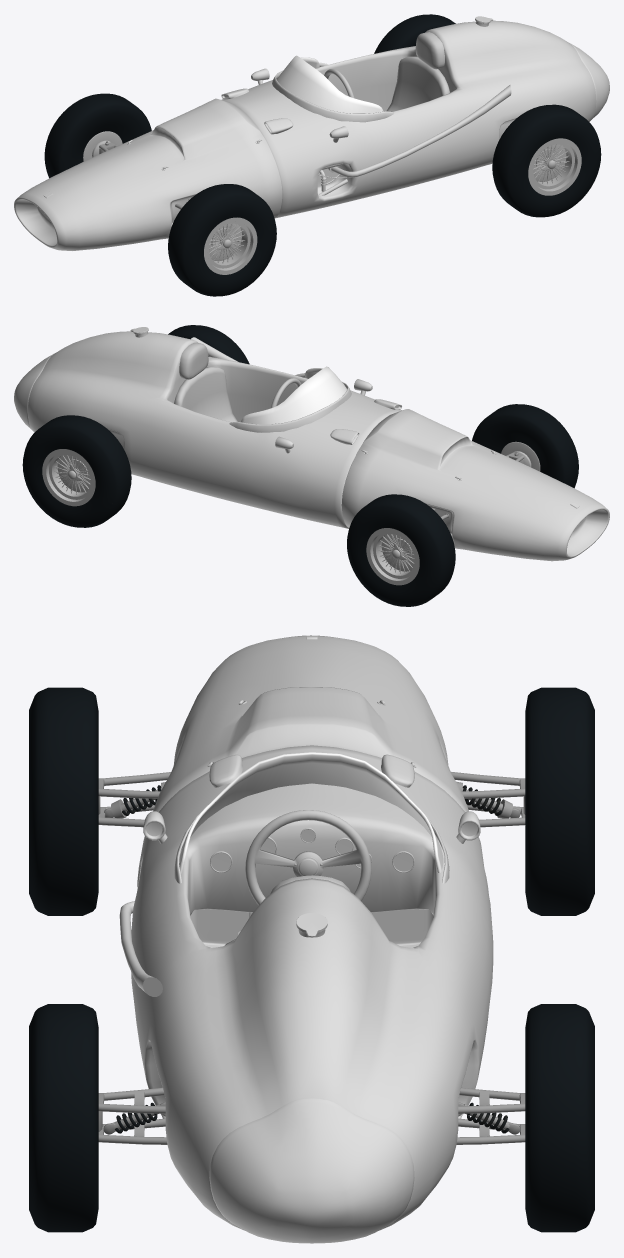
Rendered from Ferrari 246 F1 SketchFab.fbx.
3 renders of one model, top to bottom at view 1: azimuth 30°, elevation 25°; view 2: azimuth 150°, elevation 25°; view 3: azimuth 270°, elevation 25°, orthographic. The views are drawn at different scales.
Parts seen in each view (by area): view 1: Mid_Base_Low, Front_Bonnet_Low, Tire_Rubber_Low, Back_Tire_Rubber_Low, Window_Low, Chair_Low, Tire_Metal_Rim_Low, Back_Tire_Metal_Rim_Low, Exhaust_Low, Tire_Plate_Low, Window_Protector_Low, Rear_Base_Low (+6 smaller); view 2: Mid_Base_Low, Front_Bonnet_Low, Tire_Rubber_Low, Back_Tire_Rubber_Low, Window_Low, Chair_Low, Tire_Metal_Rim_Low, Back_Tire_Metal_Rim_Low, Tire_Plate_Low, Window_Protector_Low, Chair_Head_Low, Rear_Base_Low (+5 smaller); view 3: Mid_Base_Low, Tire_Rubber_Low, Back_Tire_Rubber_Low, Front_Bonnet_Low, Rear_Base_Low, Window_Low, Steering_Wheel_Low, Tire_Supports_Top_Back_Low, Front_Tire_Supports_Top_Low, Tire_Supports_Bottom_Back_Low, Mid_Vents_Low, Exhaust_Low (+3 smaller).
Part boxes in pixels (x1,y1,x2,y2): Mid_Base_Low: [221, 20, 596, 218]; Front_Bonnet_Low: [14, 98, 282, 250]; Tire_Rubber_Low: [44, 93, 276, 296]; Back_Tire_Rubber_Low: [374, 14, 601, 217]; Window_Low: [276, 55, 383, 113]; Chair_Low: [386, 56, 450, 111]; Tire_Metal_Rim_Low: [204, 217, 257, 274]; Back_Tire_Metal_Rim_Low: [528, 138, 581, 195]; Exhaust_Low: [328, 85, 511, 177]; Tire_Plate_Low: [83, 131, 241, 261]; Window_Protector_Low: [272, 62, 394, 122]; Rear_Base_Low: [569, 43, 609, 117]; Mid_Base_Low: [27, 331, 401, 528]; Front_Bonnet_Low: [341, 409, 609, 561]; Tire_Rubber_Low: [347, 404, 578, 606]; Back_Tire_Rubber_Low: [22, 325, 249, 527]; Window_Low: [241, 366, 347, 424]; Chair_Low: [174, 367, 237, 422]; Tire_Metal_Rim_Low: [366, 528, 419, 585]; Back_Tire_Metal_Rim_Low: [42, 449, 95, 506]; Tire_Plate_Low: [381, 441, 540, 571]; Window_Protector_Low: [229, 373, 351, 432]; Chair_Head_Low: [179, 342, 208, 379]; Rear_Base_Low: [14, 353, 54, 428]; Mid_Base_Low: [131, 745, 493, 1230]; Tire_Rubber_Low: [29, 687, 594, 915]; Back_Tire_Rubber_Low: [29, 1004, 594, 1232]; Front_Bonnet_Low: [143, 635, 468, 841]; Rear_Base_Low: [209, 1098, 414, 1243]; Window_Low: [179, 752, 443, 873]; Steering_Wheel_Low: [245, 810, 371, 905]; Tire_Supports_Top_Back_Low: [98, 1087, 525, 1113]; Front_Tire_Supports_Top_Low: [98, 772, 525, 798]; Tire_Supports_Bottom_Back_Low: [98, 1118, 525, 1144]; Mid_Vents_Low: [209, 754, 414, 787]; Exhaust_Low: [119, 901, 162, 996].
Bounding box in the file's own units: 223 × 56.56 × 96.58.
